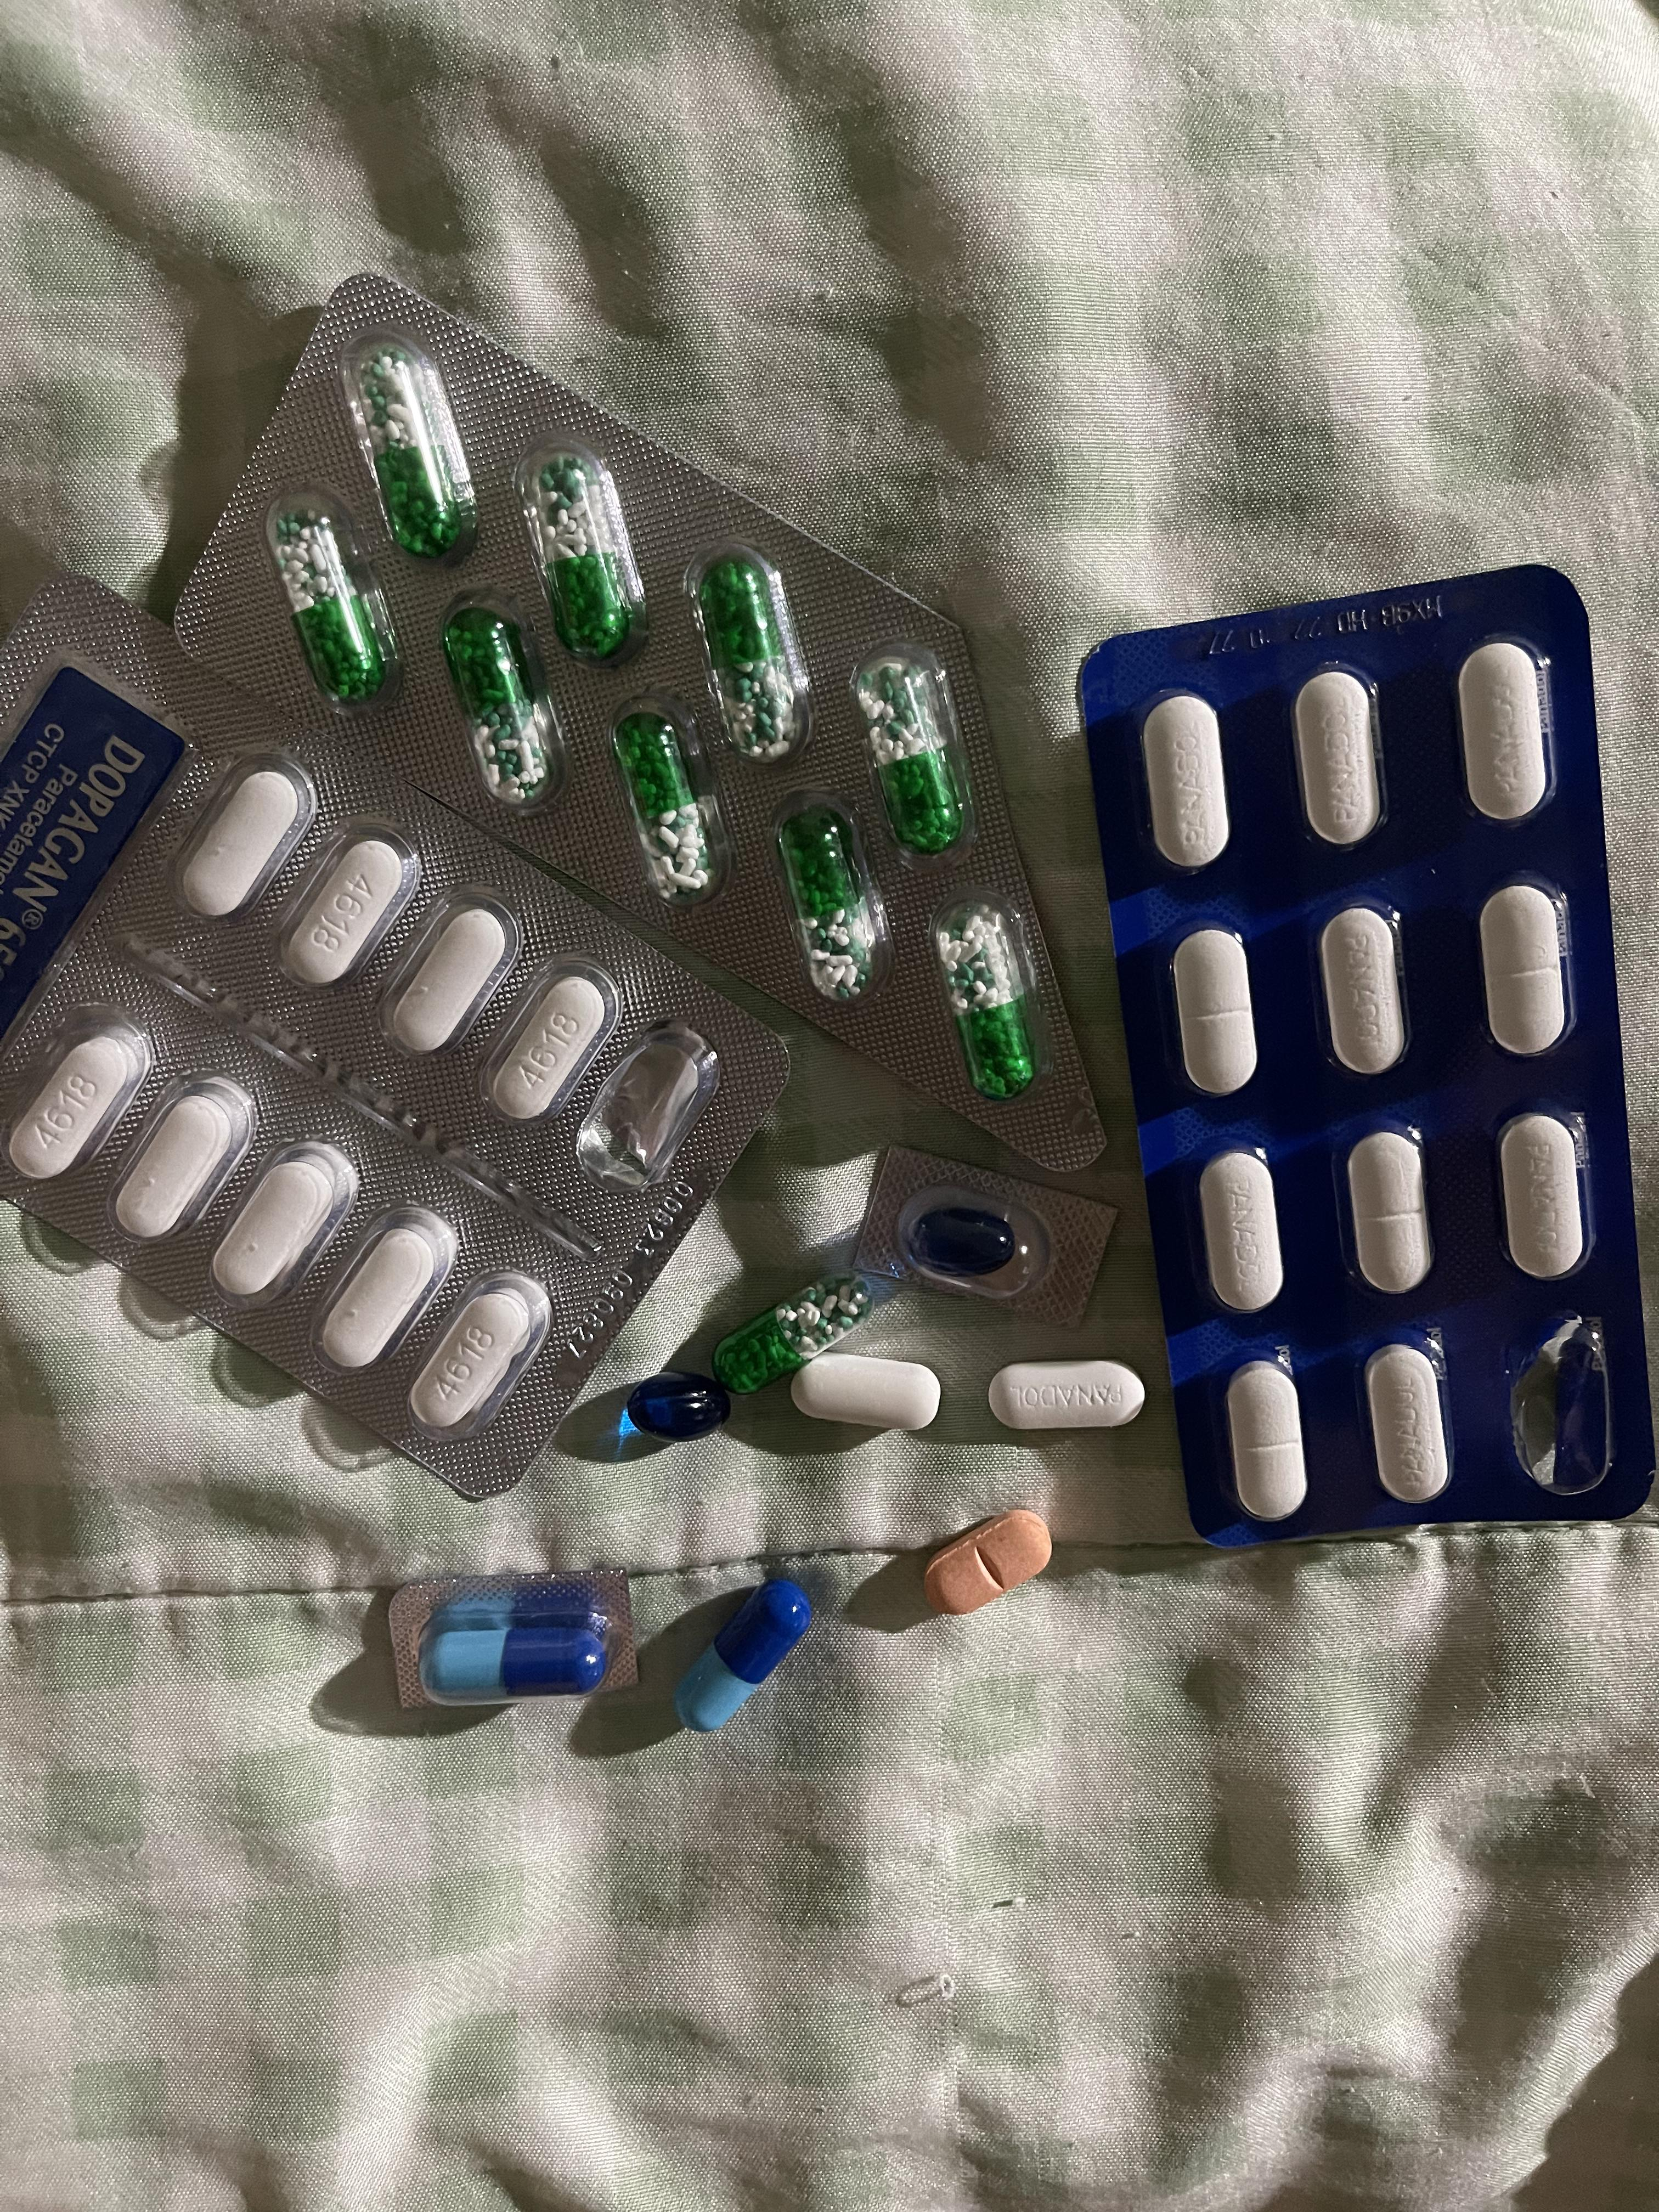Lincomyxin_500mg: (910, 1205, 1021, 1277), (624, 1369, 727, 1442)
Loratadine_10mg: (925, 1510, 1053, 1613)
Paracetamol_350mg: (1459, 641, 1554, 826), (1295, 669, 1384, 853), (1141, 695, 1230, 878), (1481, 885, 1572, 1059), (1319, 907, 1410, 1082), (1499, 1113, 1589, 1284), (1173, 928, 1258, 1097), (1364, 1343, 1452, 1507), (1347, 1132, 1432, 1296), (1199, 1150, 1283, 1315), (1225, 1359, 1305, 1521), (990, 1360, 1141, 1432)
Paracetamol_500mg: (207, 1137, 359, 1313), (310, 1202, 462, 1378), (272, 822, 418, 993), (376, 888, 519, 1059), (488, 954, 627, 1127), (117, 1089, 242, 1242), (10, 1036, 138, 1183), (410, 1289, 537, 1433), (181, 772, 303, 916), (791, 1353, 943, 1430)
Paracetamol_650mg: (359, 345, 469, 559), (275, 516, 385, 704), (535, 463, 634, 662), (617, 721, 720, 906), (444, 611, 547, 794), (861, 660, 957, 852), (936, 906, 1032, 1092), (701, 564, 791, 756), (706, 1273, 840, 1397), (782, 820, 871, 996)
pill: (422, 1583, 619, 1703), (678, 1576, 809, 1731)
